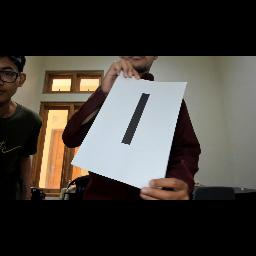i: (120, 91, 156, 149)
